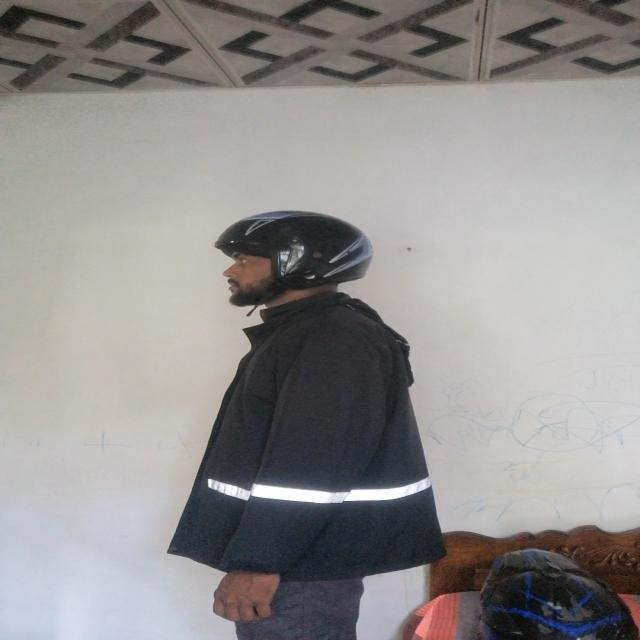Helmet_Wearer: (204, 199, 381, 313)
Jacket_Wearer: (194, 291, 452, 573)
Person: (188, 200, 433, 640)
